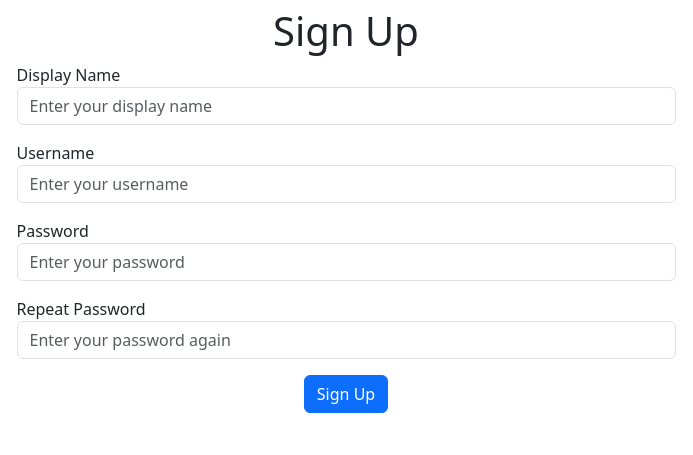
Scenario: Signup › Interactions › disables the signup button when password repeat does not match to password
Type "my-display-name" into the field with placeholder "Enter your display name" at (346, 106), box [16, 87, 676, 125]
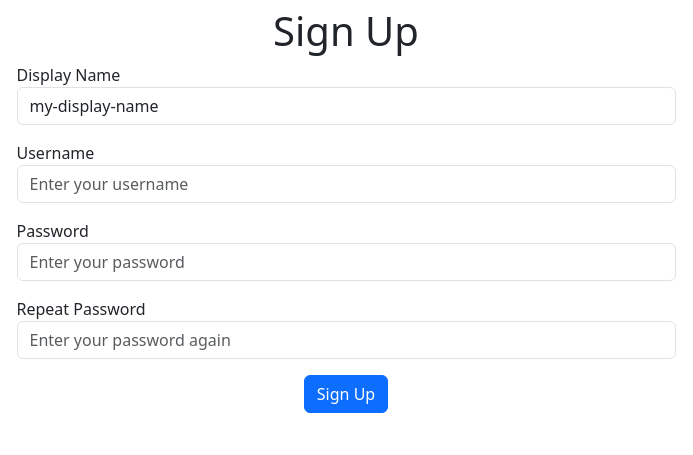
Type "my-username" into the field with placeholder "Enter your username" at (346, 184), box [16, 165, 676, 203]
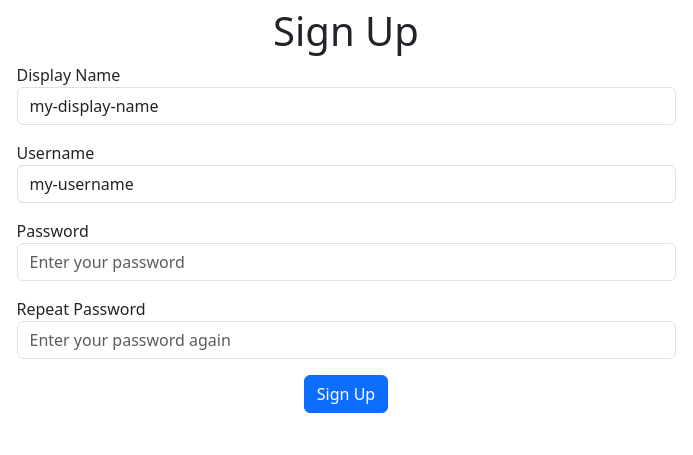
Type "my-password" into the password field with placeholder "Enter your password" at (346, 262), box [16, 243, 676, 281]
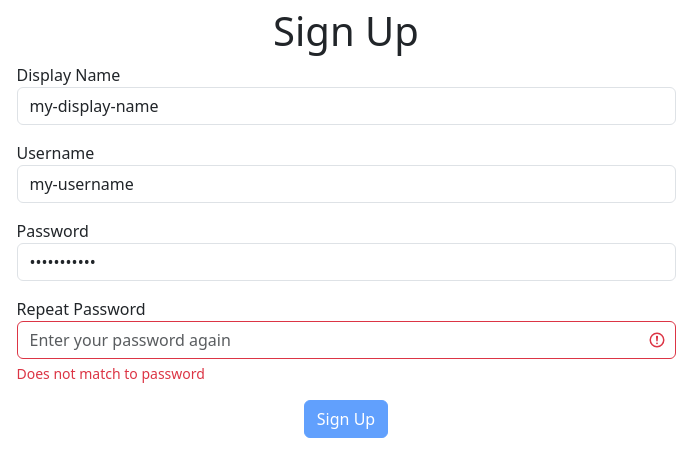
Type "my-password" into the password field with placeholder "Enter your password again" at (346, 340), box [16, 321, 676, 359]
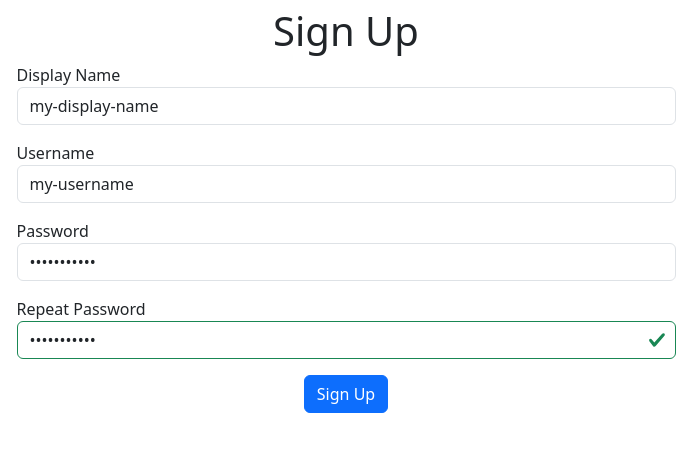
Type "new-pass" into the password field with placeholder "Enter your password again" below "Repeat Password" at (346, 340), box [16, 321, 676, 359]
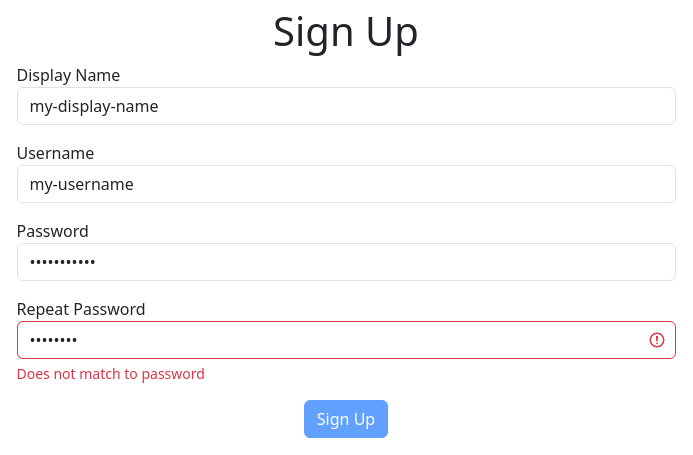
Now the button is disabled, box [304, 400, 388, 438]
